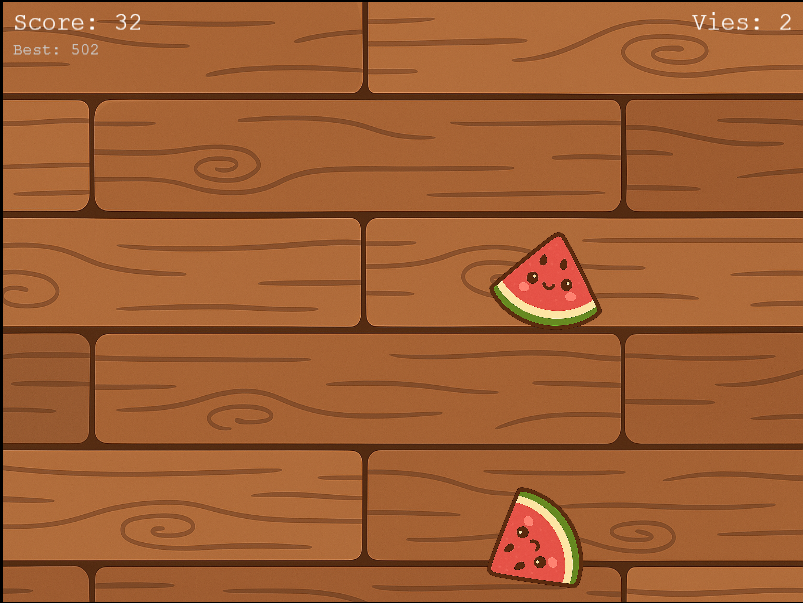fruit: (487, 227, 612, 352), (483, 483, 589, 590)
